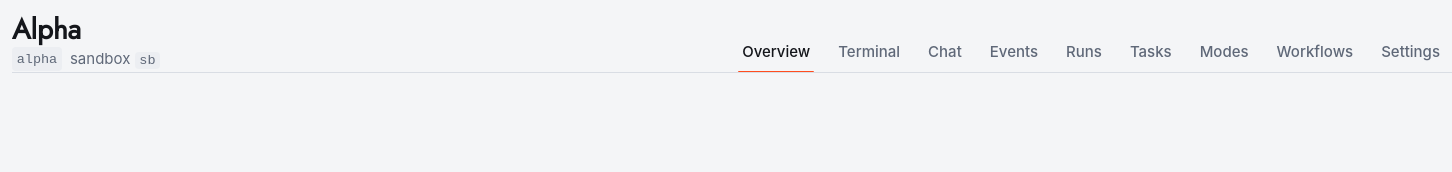
Test: ProjectHeader › explains the sandbox label and name with one tooltip and tab stop
Hover over the text "sb" at (147, 61), box [135,52,160,69]
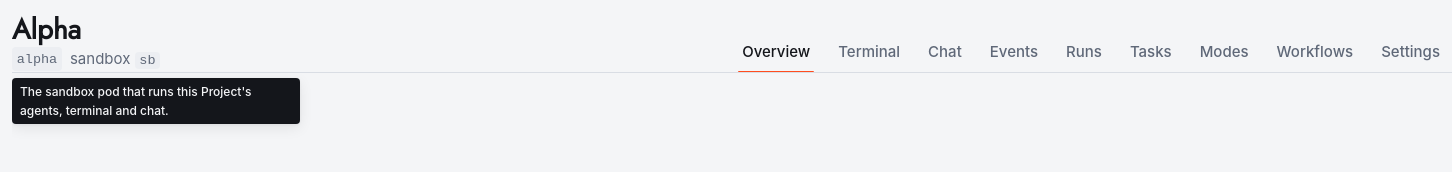
Check: the tooltip shows "sandbox pod that runs this Project's agents", box [20,84,252,118]
